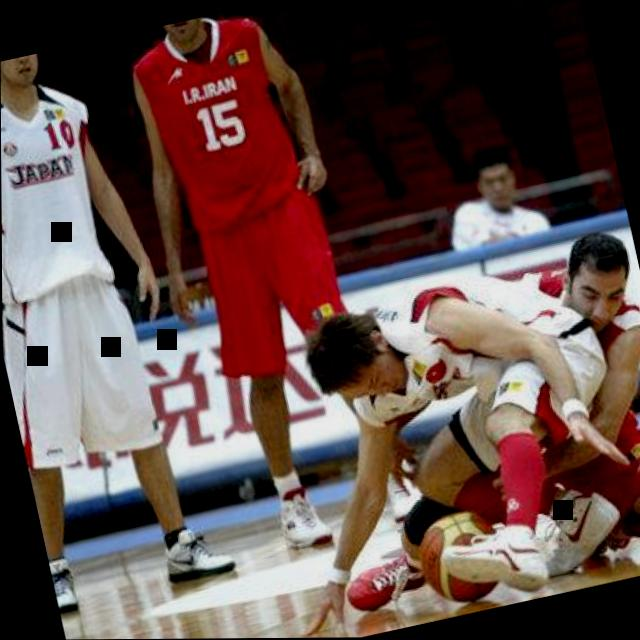Fall-Detected: (261, 208, 640, 638)
